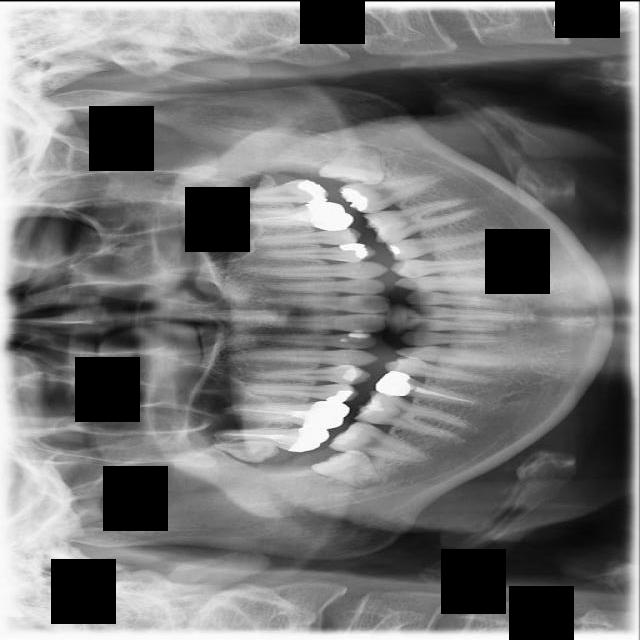3M ESPE Implant: (215, 440, 279, 463)
52: (285, 388, 352, 466), (333, 172, 392, 220), (284, 168, 332, 210), (304, 200, 354, 231), (374, 367, 411, 397), (330, 240, 376, 264), (330, 363, 371, 384), (384, 238, 421, 261), (334, 332, 376, 347), (324, 383, 357, 402)
73: (403, 377, 482, 415), (217, 204, 312, 233), (225, 401, 318, 429), (218, 427, 300, 450), (573, 20, 588, 28)
BioHorizons Implant: (224, 177, 328, 203)
Biomet 3i Implant: (318, 142, 387, 185)
Blue Sky Bio Implant: (338, 171, 447, 217)
Caries: (214, 424, 329, 454)
Implant: (329, 417, 431, 464)
Keystone Dental Implant: (308, 437, 391, 493)
